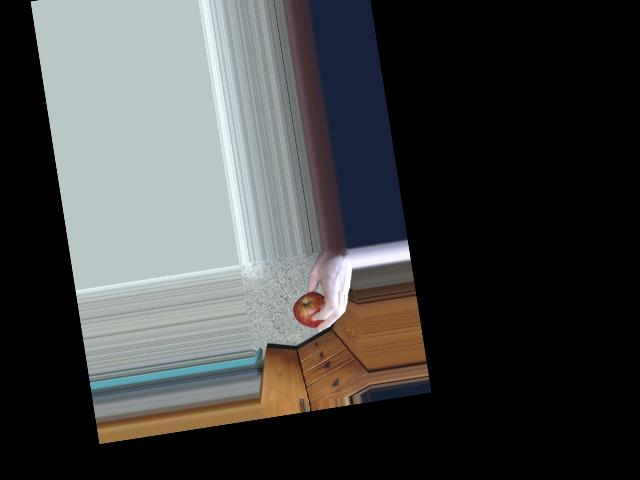apple: (289, 287, 335, 335)
